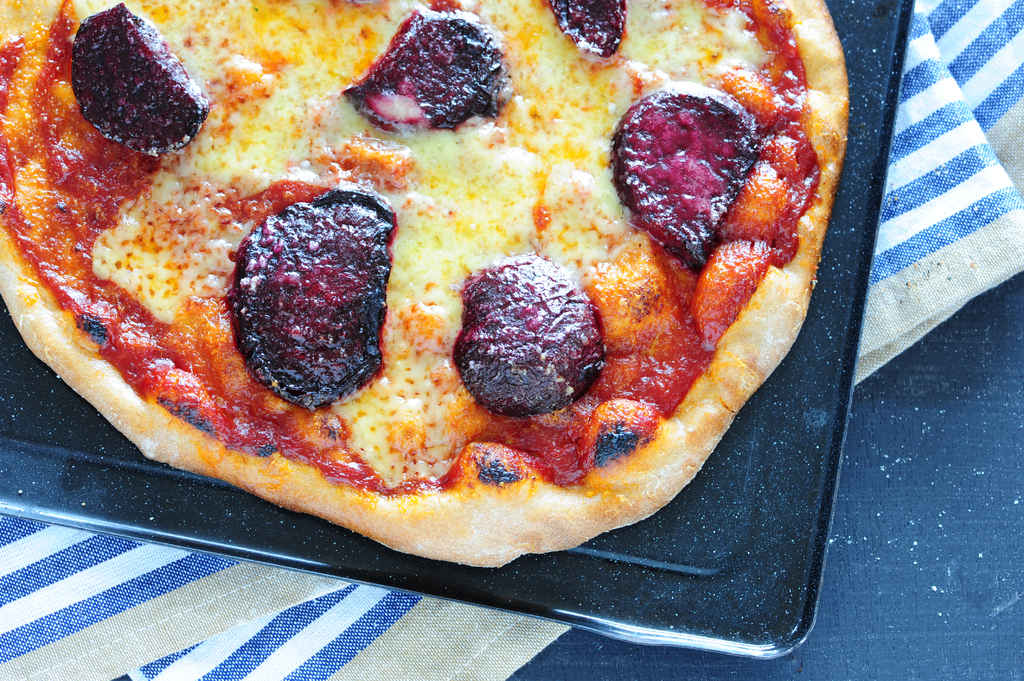Pizza: (0, 0, 849, 563)
